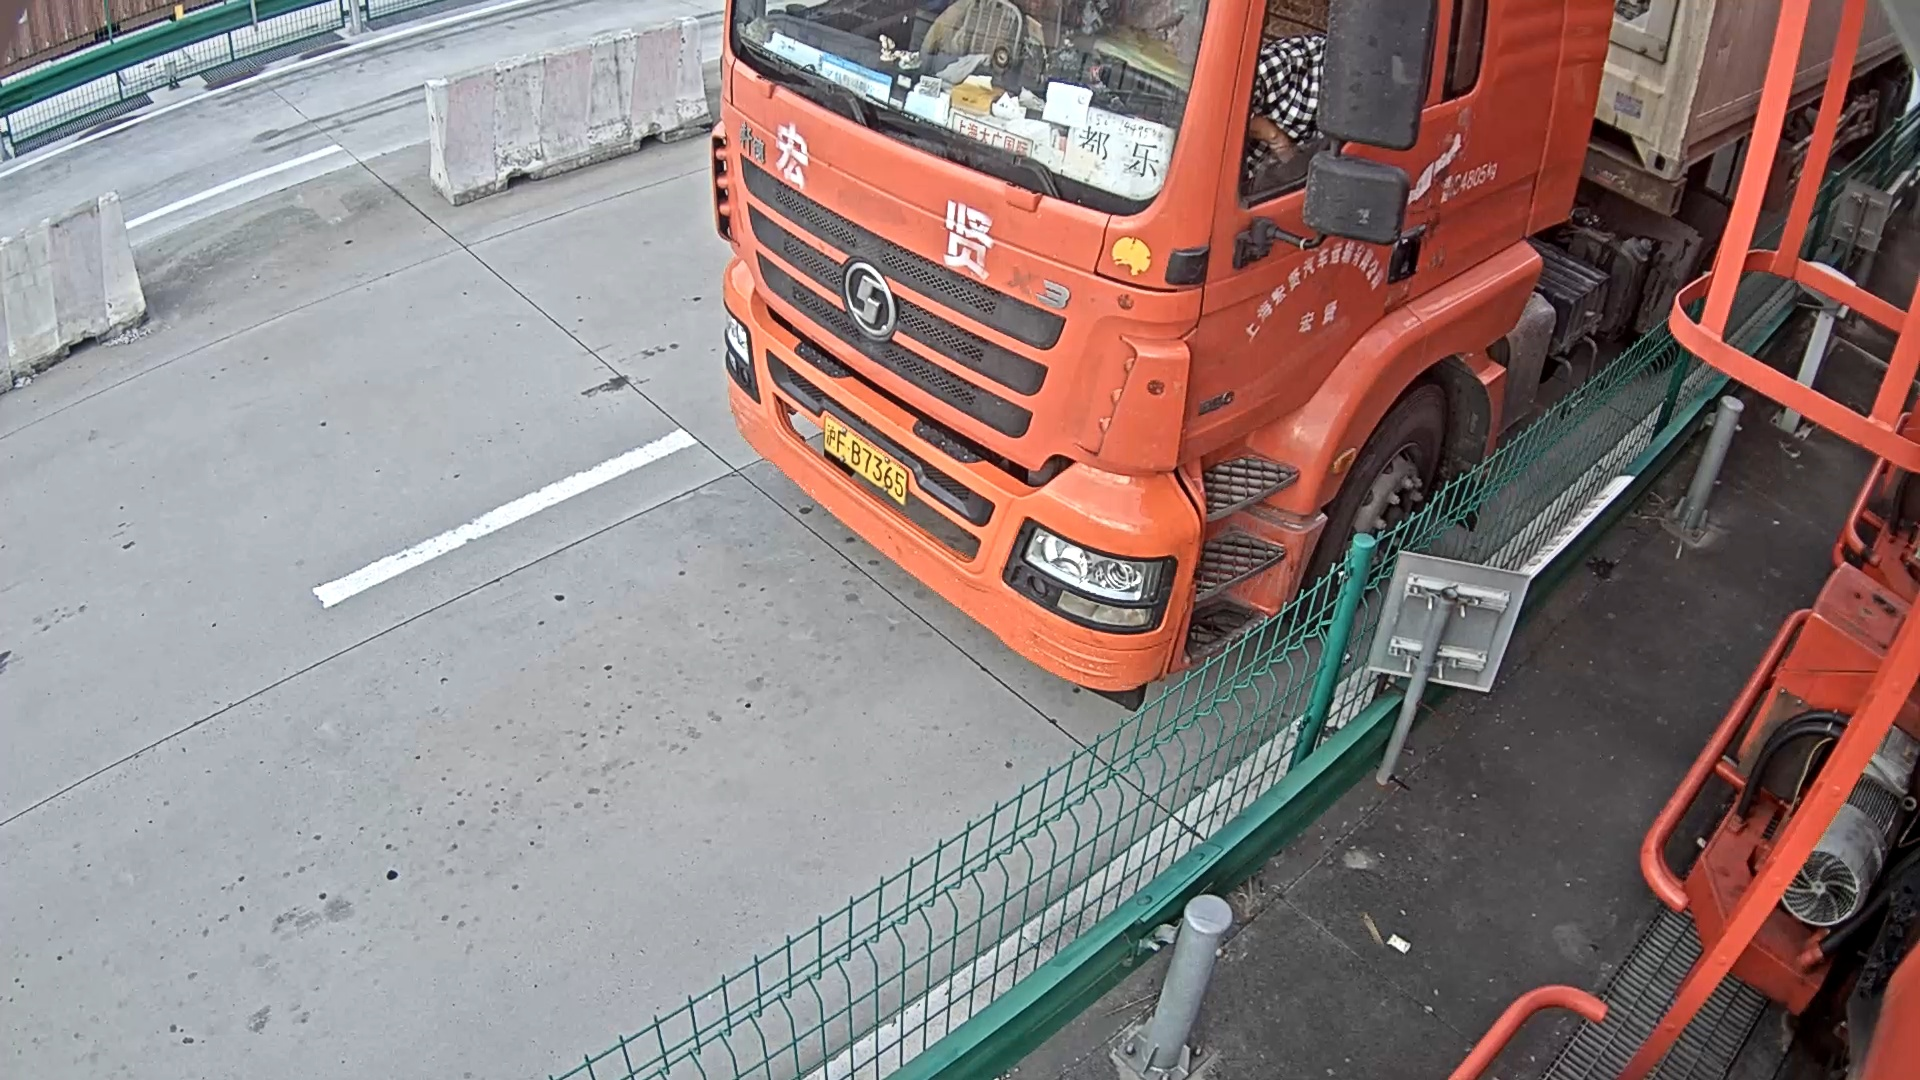head: (708, 1, 1621, 695)
plate: (820, 413, 907, 501)
